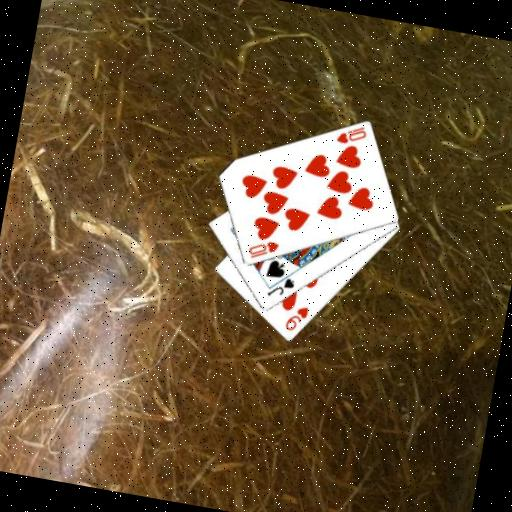10H: (244, 235, 281, 264), (332, 120, 369, 149)
9H: (281, 301, 311, 335)
JS: (263, 271, 297, 301)
